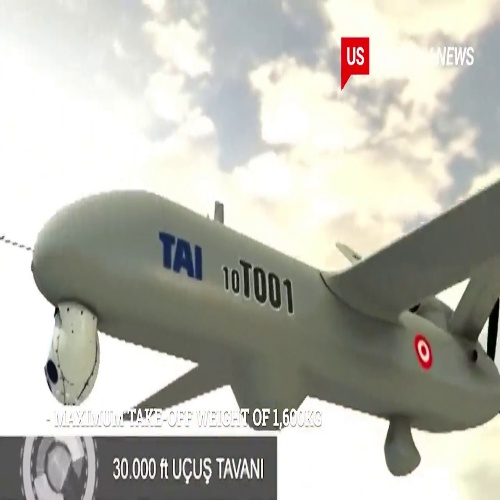uav236: (13, 176, 500, 475)
